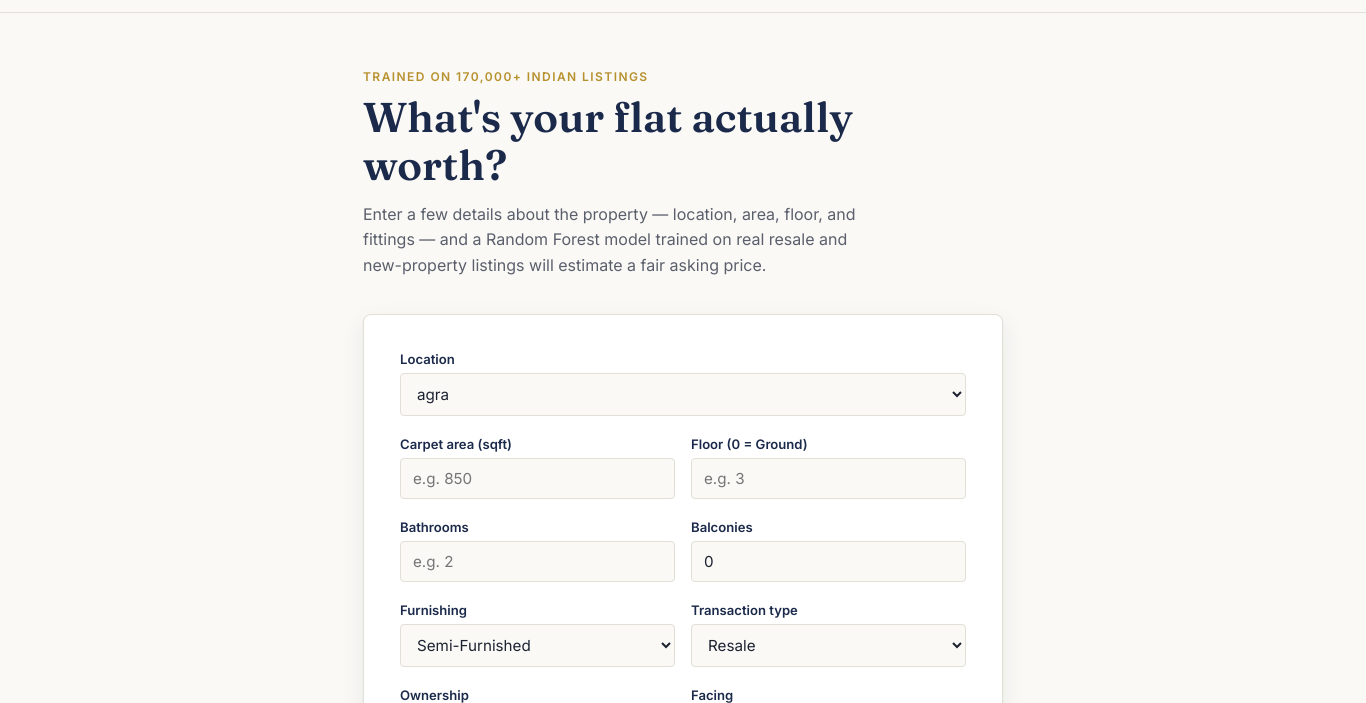
Test: End-to-end user flow: fill form -> submit -> see prediction › shows a friendly error message when the backend is unreachable
This screenshot has width=1366, height=703.
Type "1000" into the number field labelled "Carpet area (sqft)" at (538, 479), box [400,458,675,499]
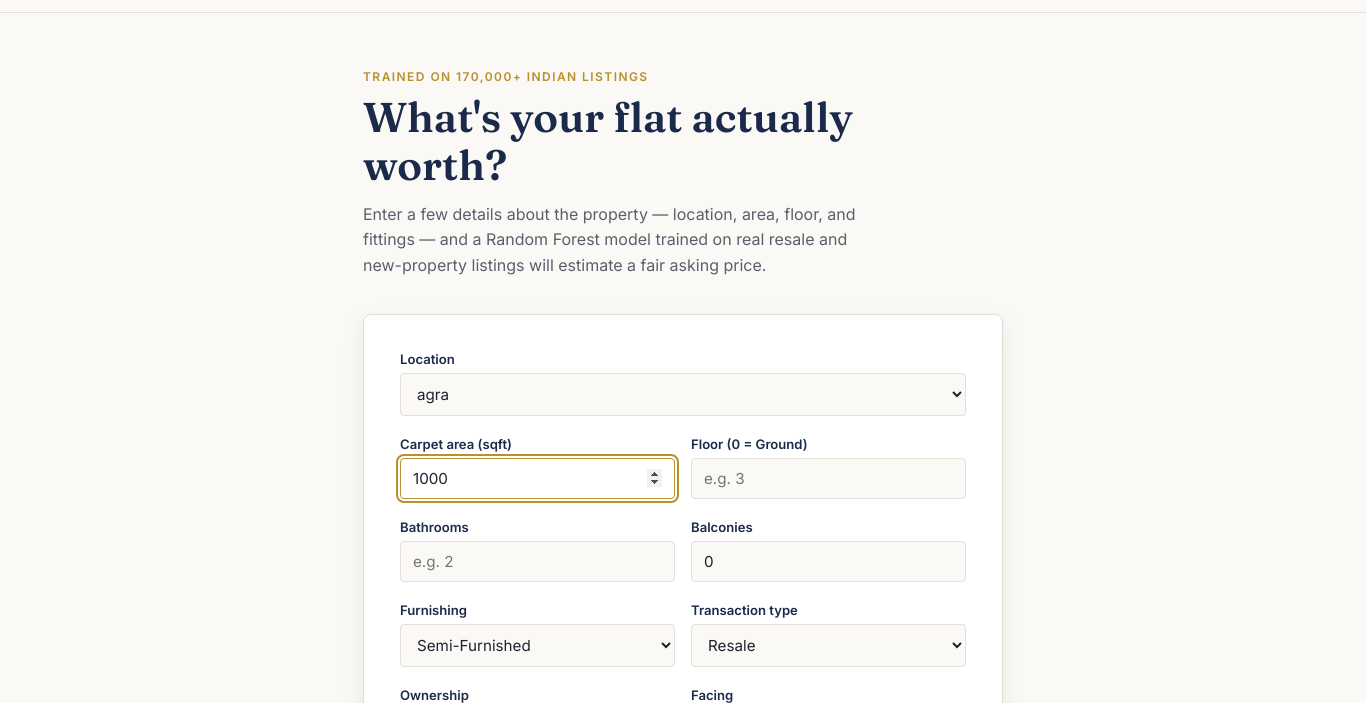
Type "1" into the number field labelled "Floor (0 = Ground)" at (828, 479), box [691,458,966,499]
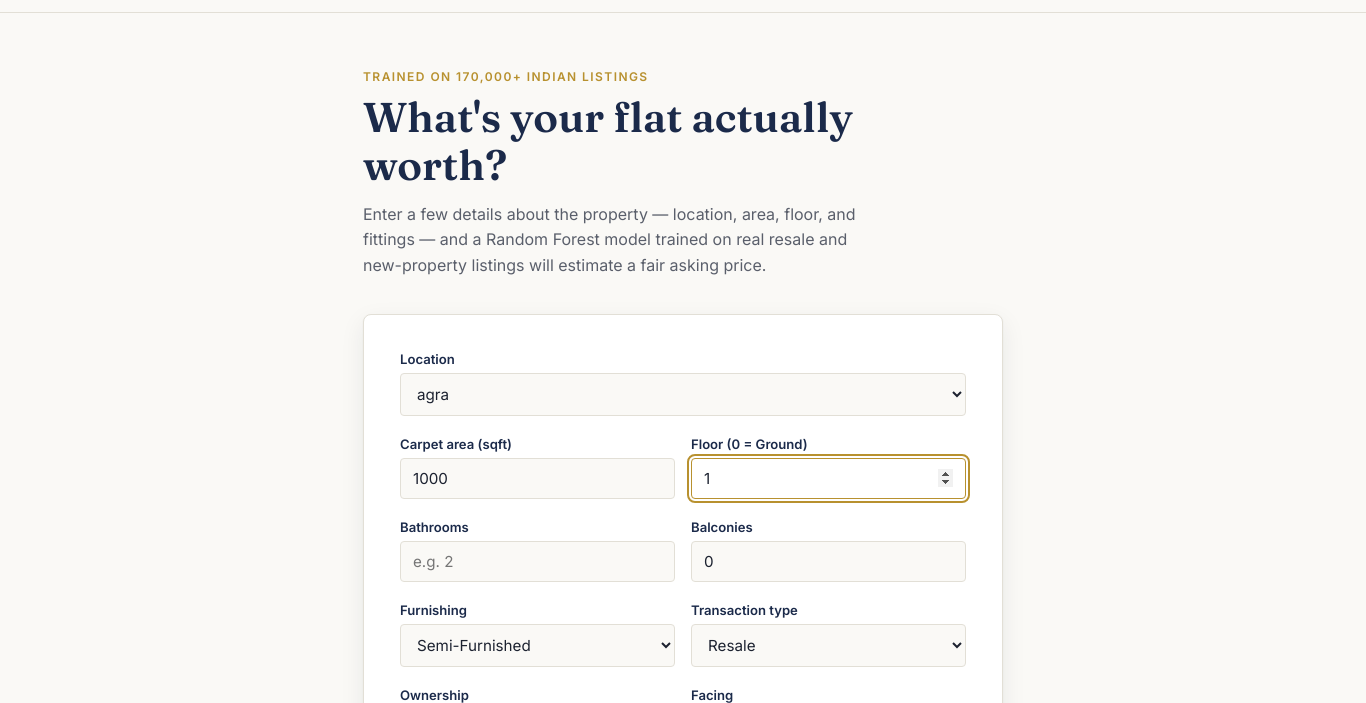
Type "1" into the number field labelled "Bathrooms" at (538, 562), box [400,541,675,582]
(page scrolled)
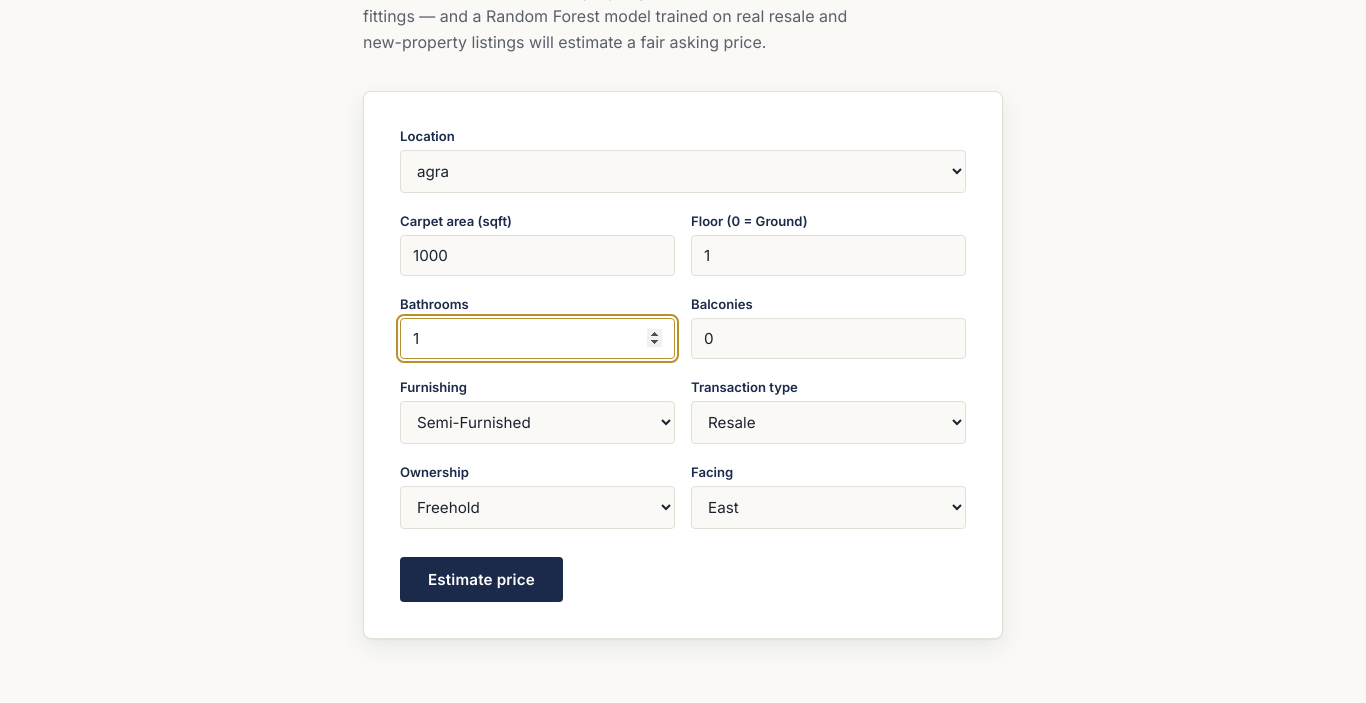
Click the button "Estimate price" at (481, 580), box [400,557,563,602]
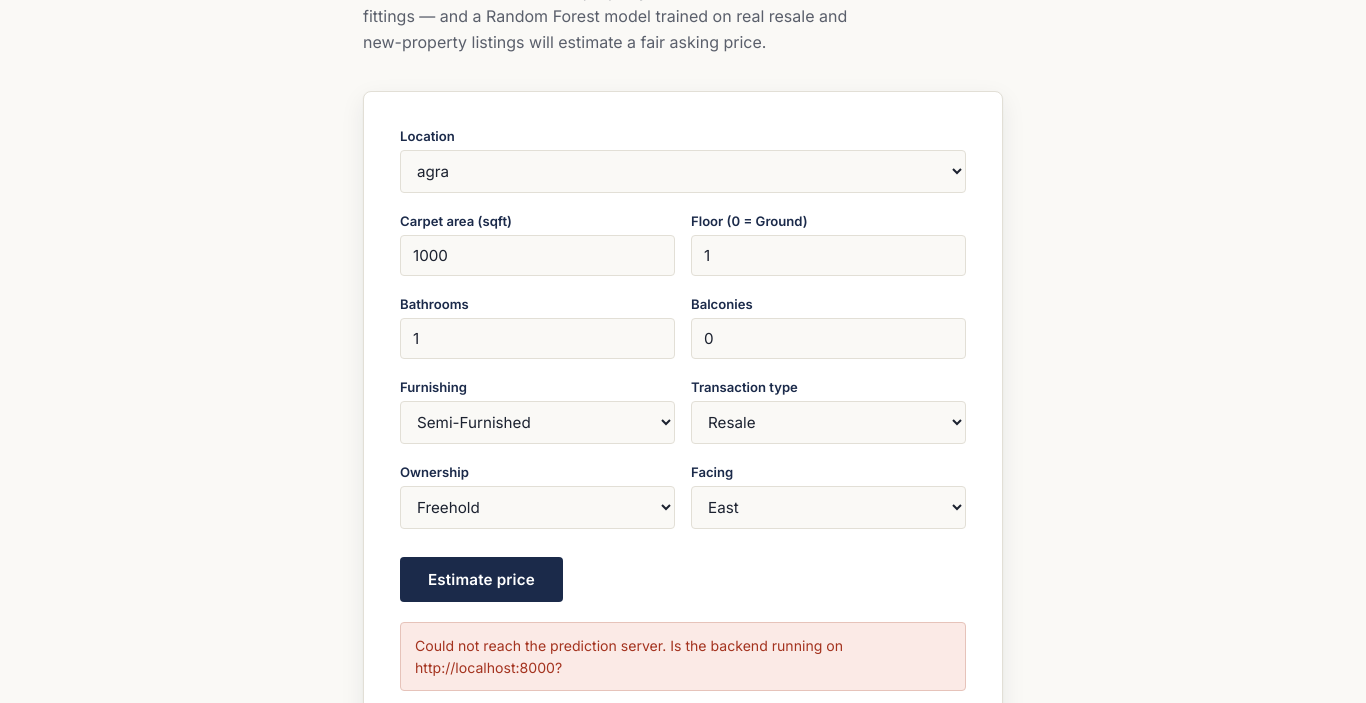
Expected: the message shows "Could not reach the prediction server", [415,637,843,676]
